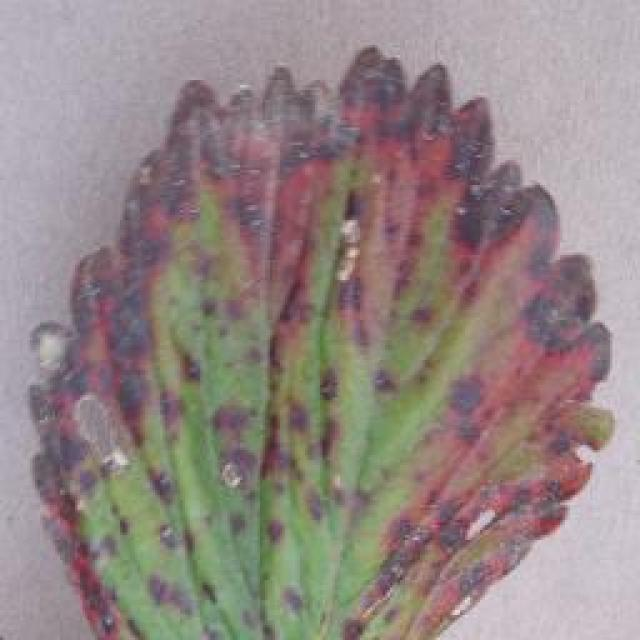Strawberry___Leaf_scorch: (18, 22, 628, 640)
